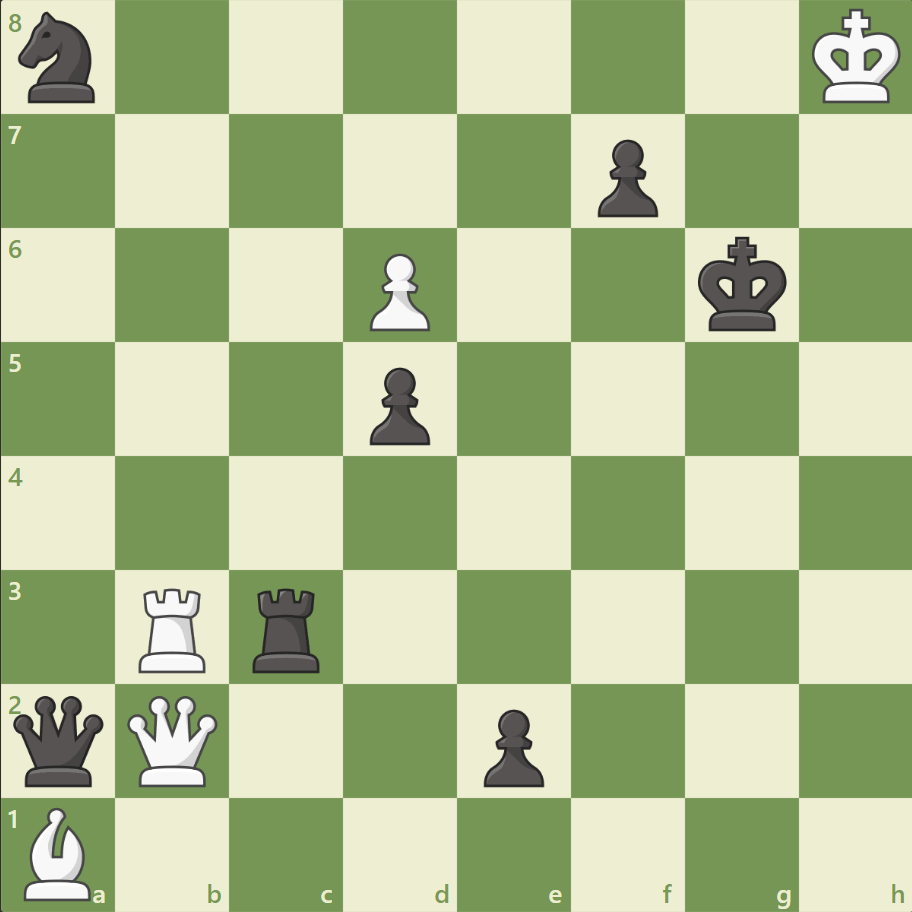B: (17, 801, 101, 904)
K: (806, 4, 906, 112)
P: (361, 246, 435, 337)
Q: (124, 690, 223, 789)
R: (133, 579, 215, 676)
k: (692, 231, 792, 339)
n: (11, 7, 108, 110)
p: (474, 700, 549, 791), (588, 132, 662, 223), (361, 359, 435, 450)
q: (10, 690, 109, 789)
r: (246, 579, 329, 676)
